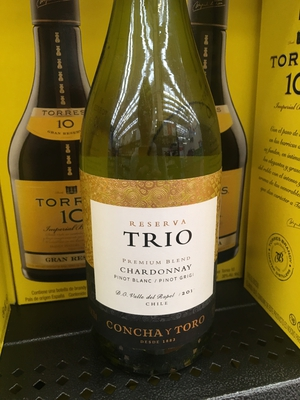trio chardonnay: (80, 18, 222, 361)
